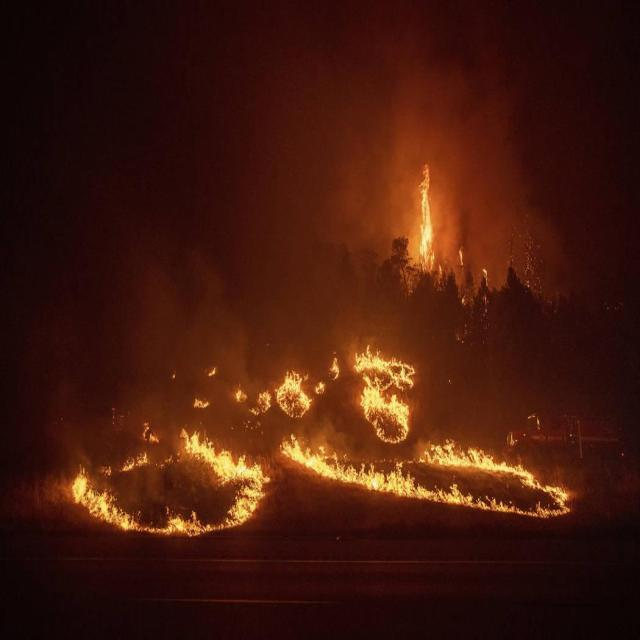Fire: (60, 323, 575, 578), (392, 139, 450, 269)
